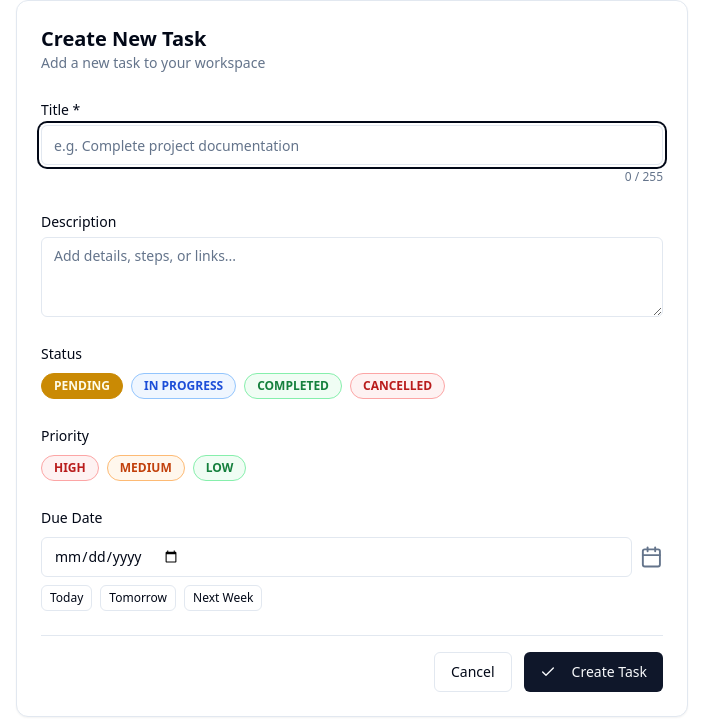
Test case: CreateTaskForm › shows character count for title
The width and height of the screenshot is (705, 720).
Type "Test" into the field labelled "Title *".
click(352, 145); type("Test")  # box [41, 125, 663, 165]
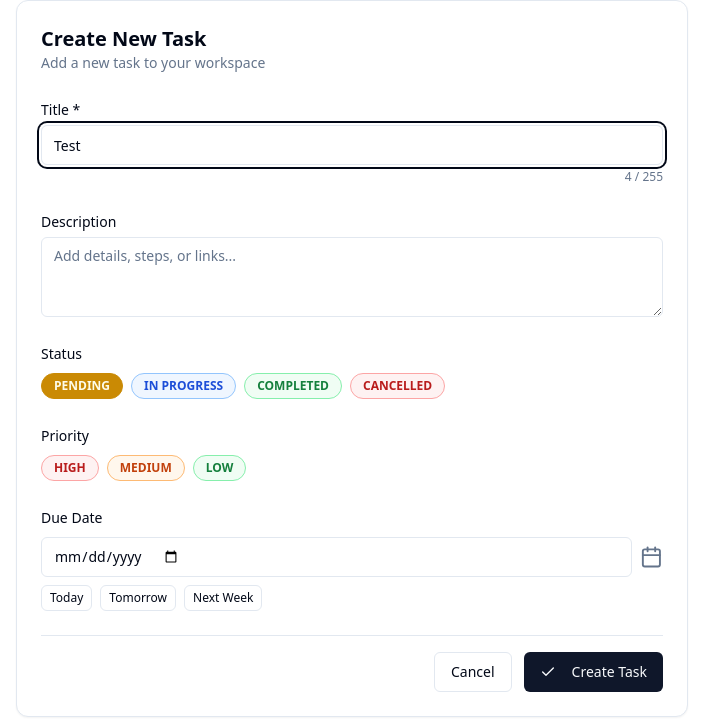
expect the text "4 / 255" is shown: met, box [625, 169, 663, 185]
